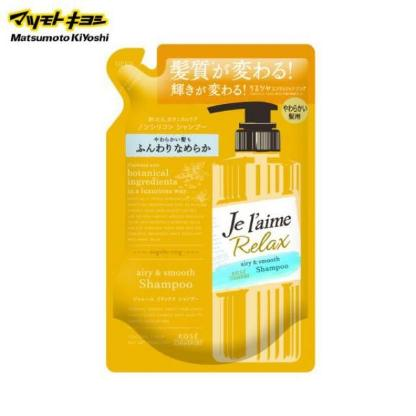Plastic Packaging: (101, 43, 319, 377)
